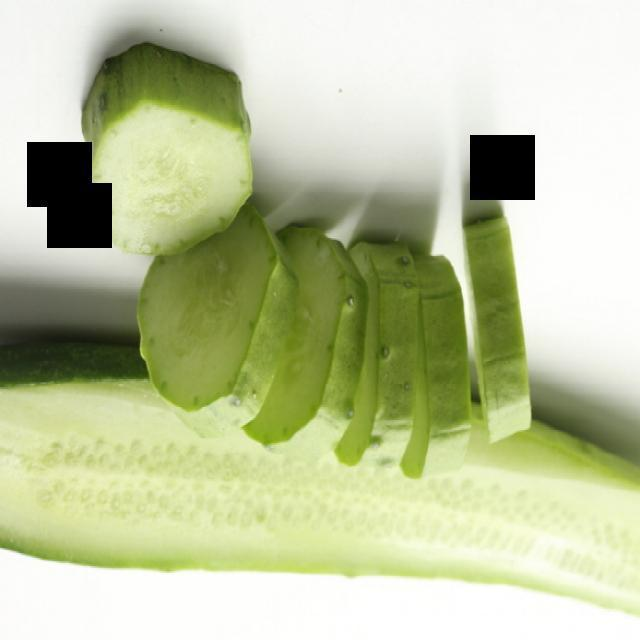cucumber: (0, 310, 640, 640), (111, 150, 377, 478), (44, 43, 276, 269), (433, 178, 568, 458), (361, 212, 469, 532)
